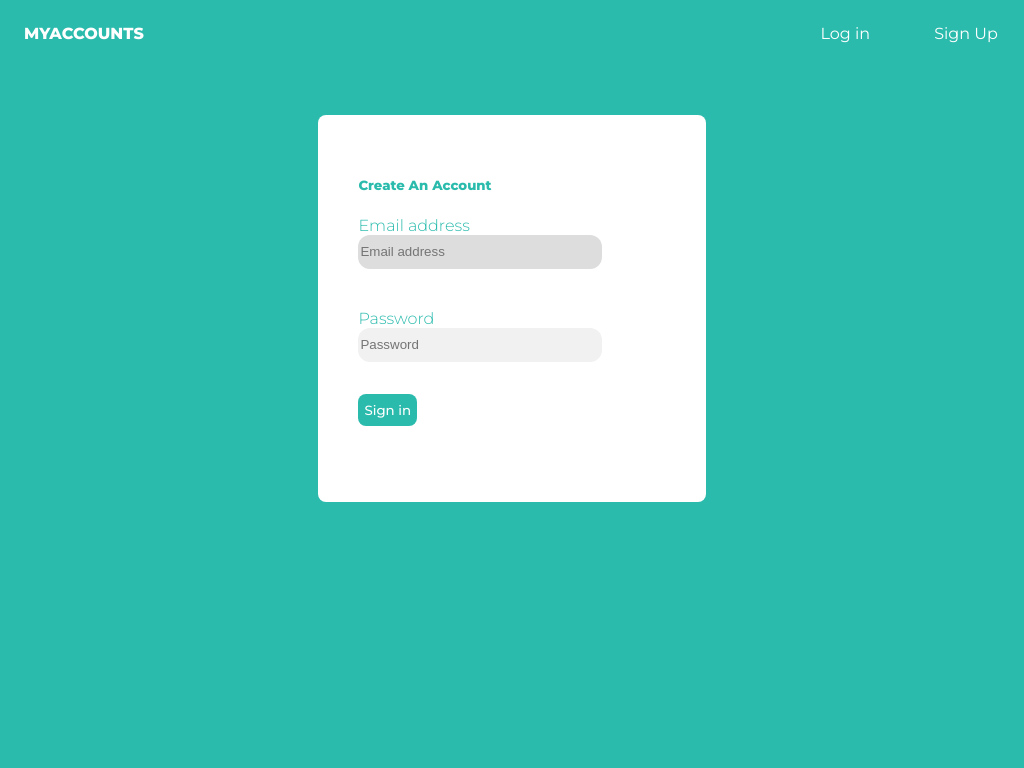
Test: check if error message without password works
Type "kwaku.kwayisi@gmail.com" into the field labelled "Email address" at point(480, 252), box [358,234,602,268]
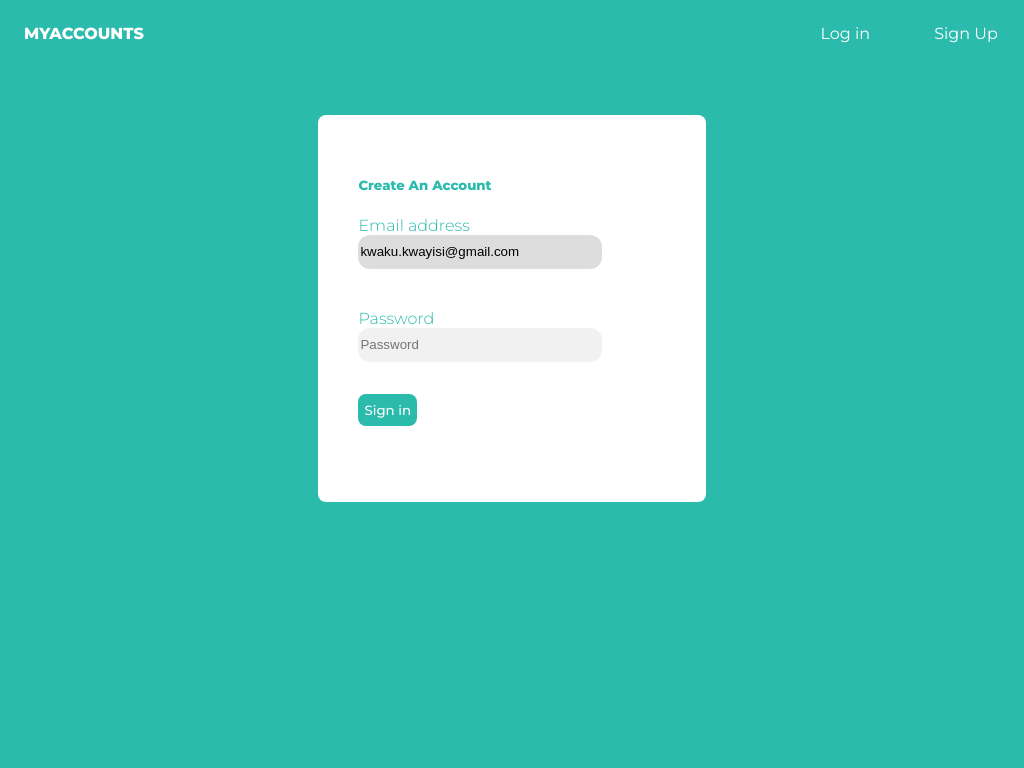
Click the button "Sign in" at point(388, 410), box [358,394,417,426]
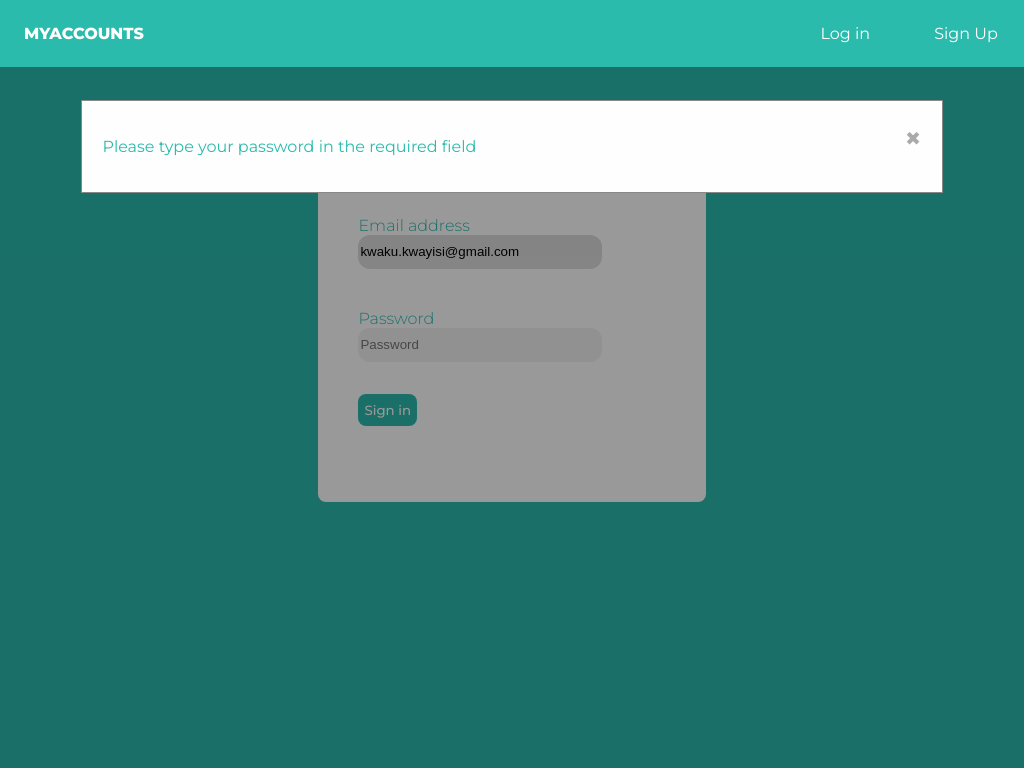
expect the text "Please type your password in the required field" is shown: met, box [102,137,476,156]
